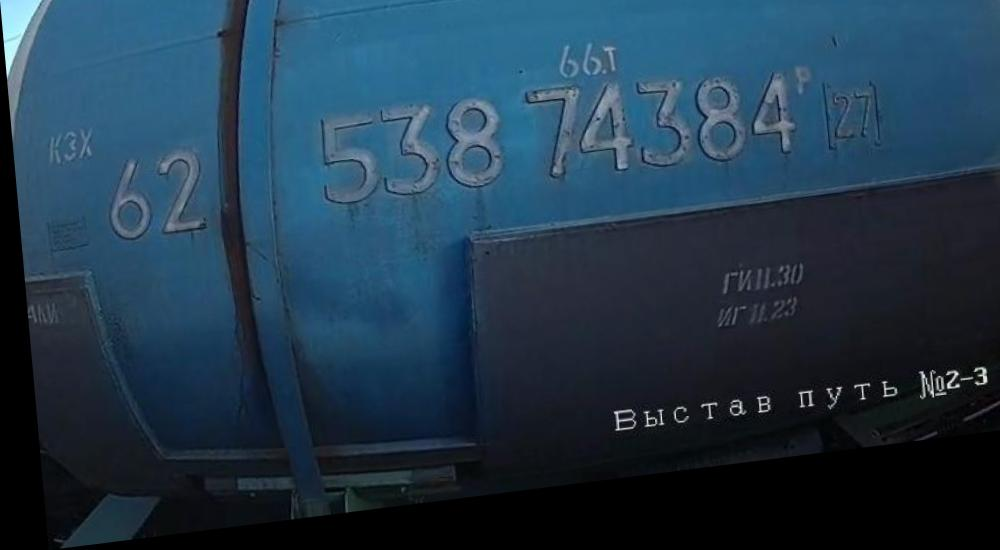Wagon-number: (311, 71, 796, 225)
